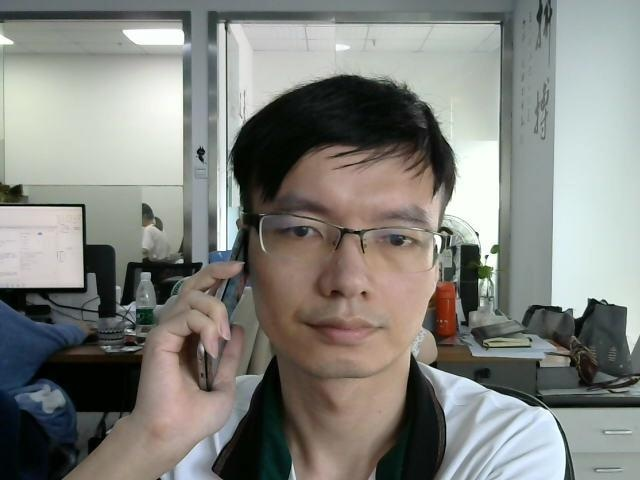hand: (145, 257, 242, 423)
